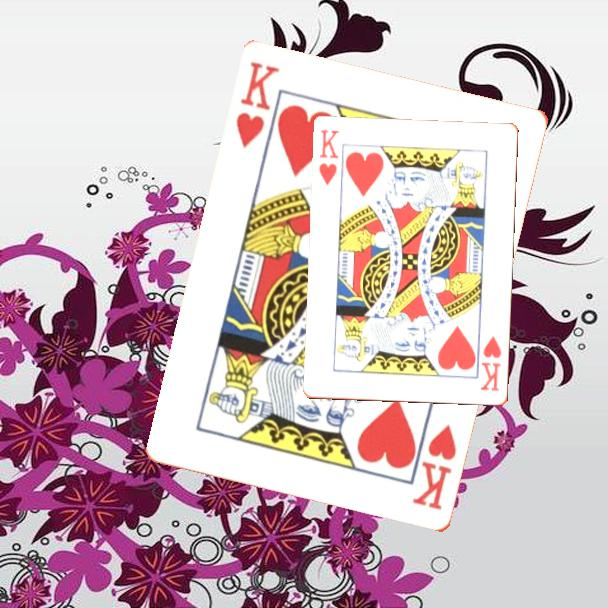h13: (409, 421, 460, 514), (233, 58, 283, 152), (477, 333, 505, 394), (316, 126, 342, 189)
